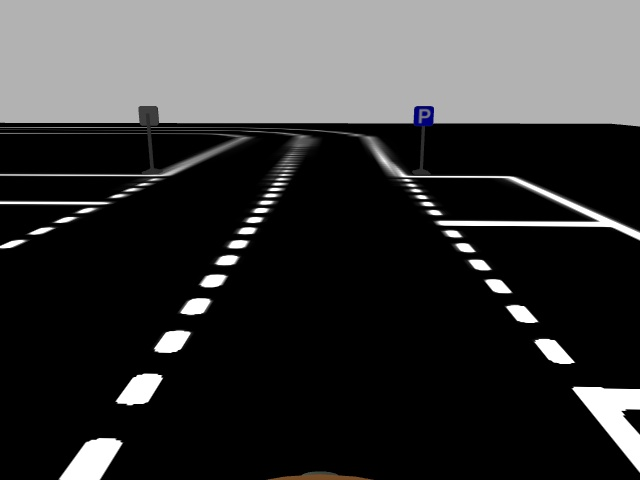parking: (413, 103, 435, 126)
